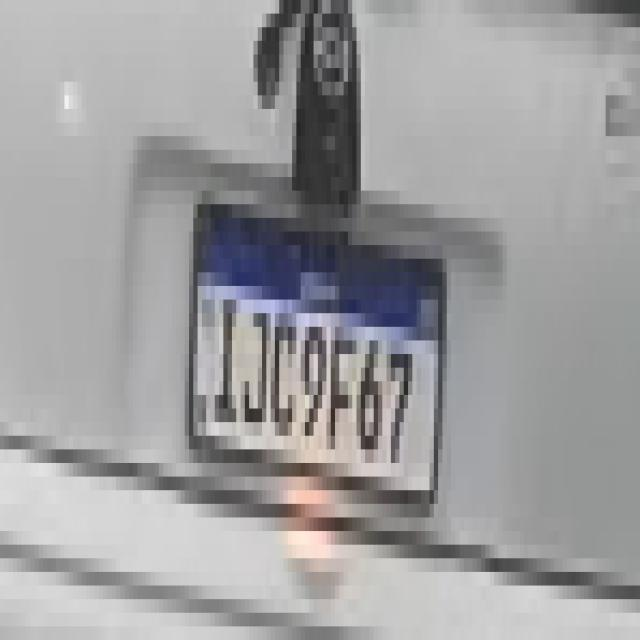Placa_mercosul_carro: (186, 200, 446, 519)
